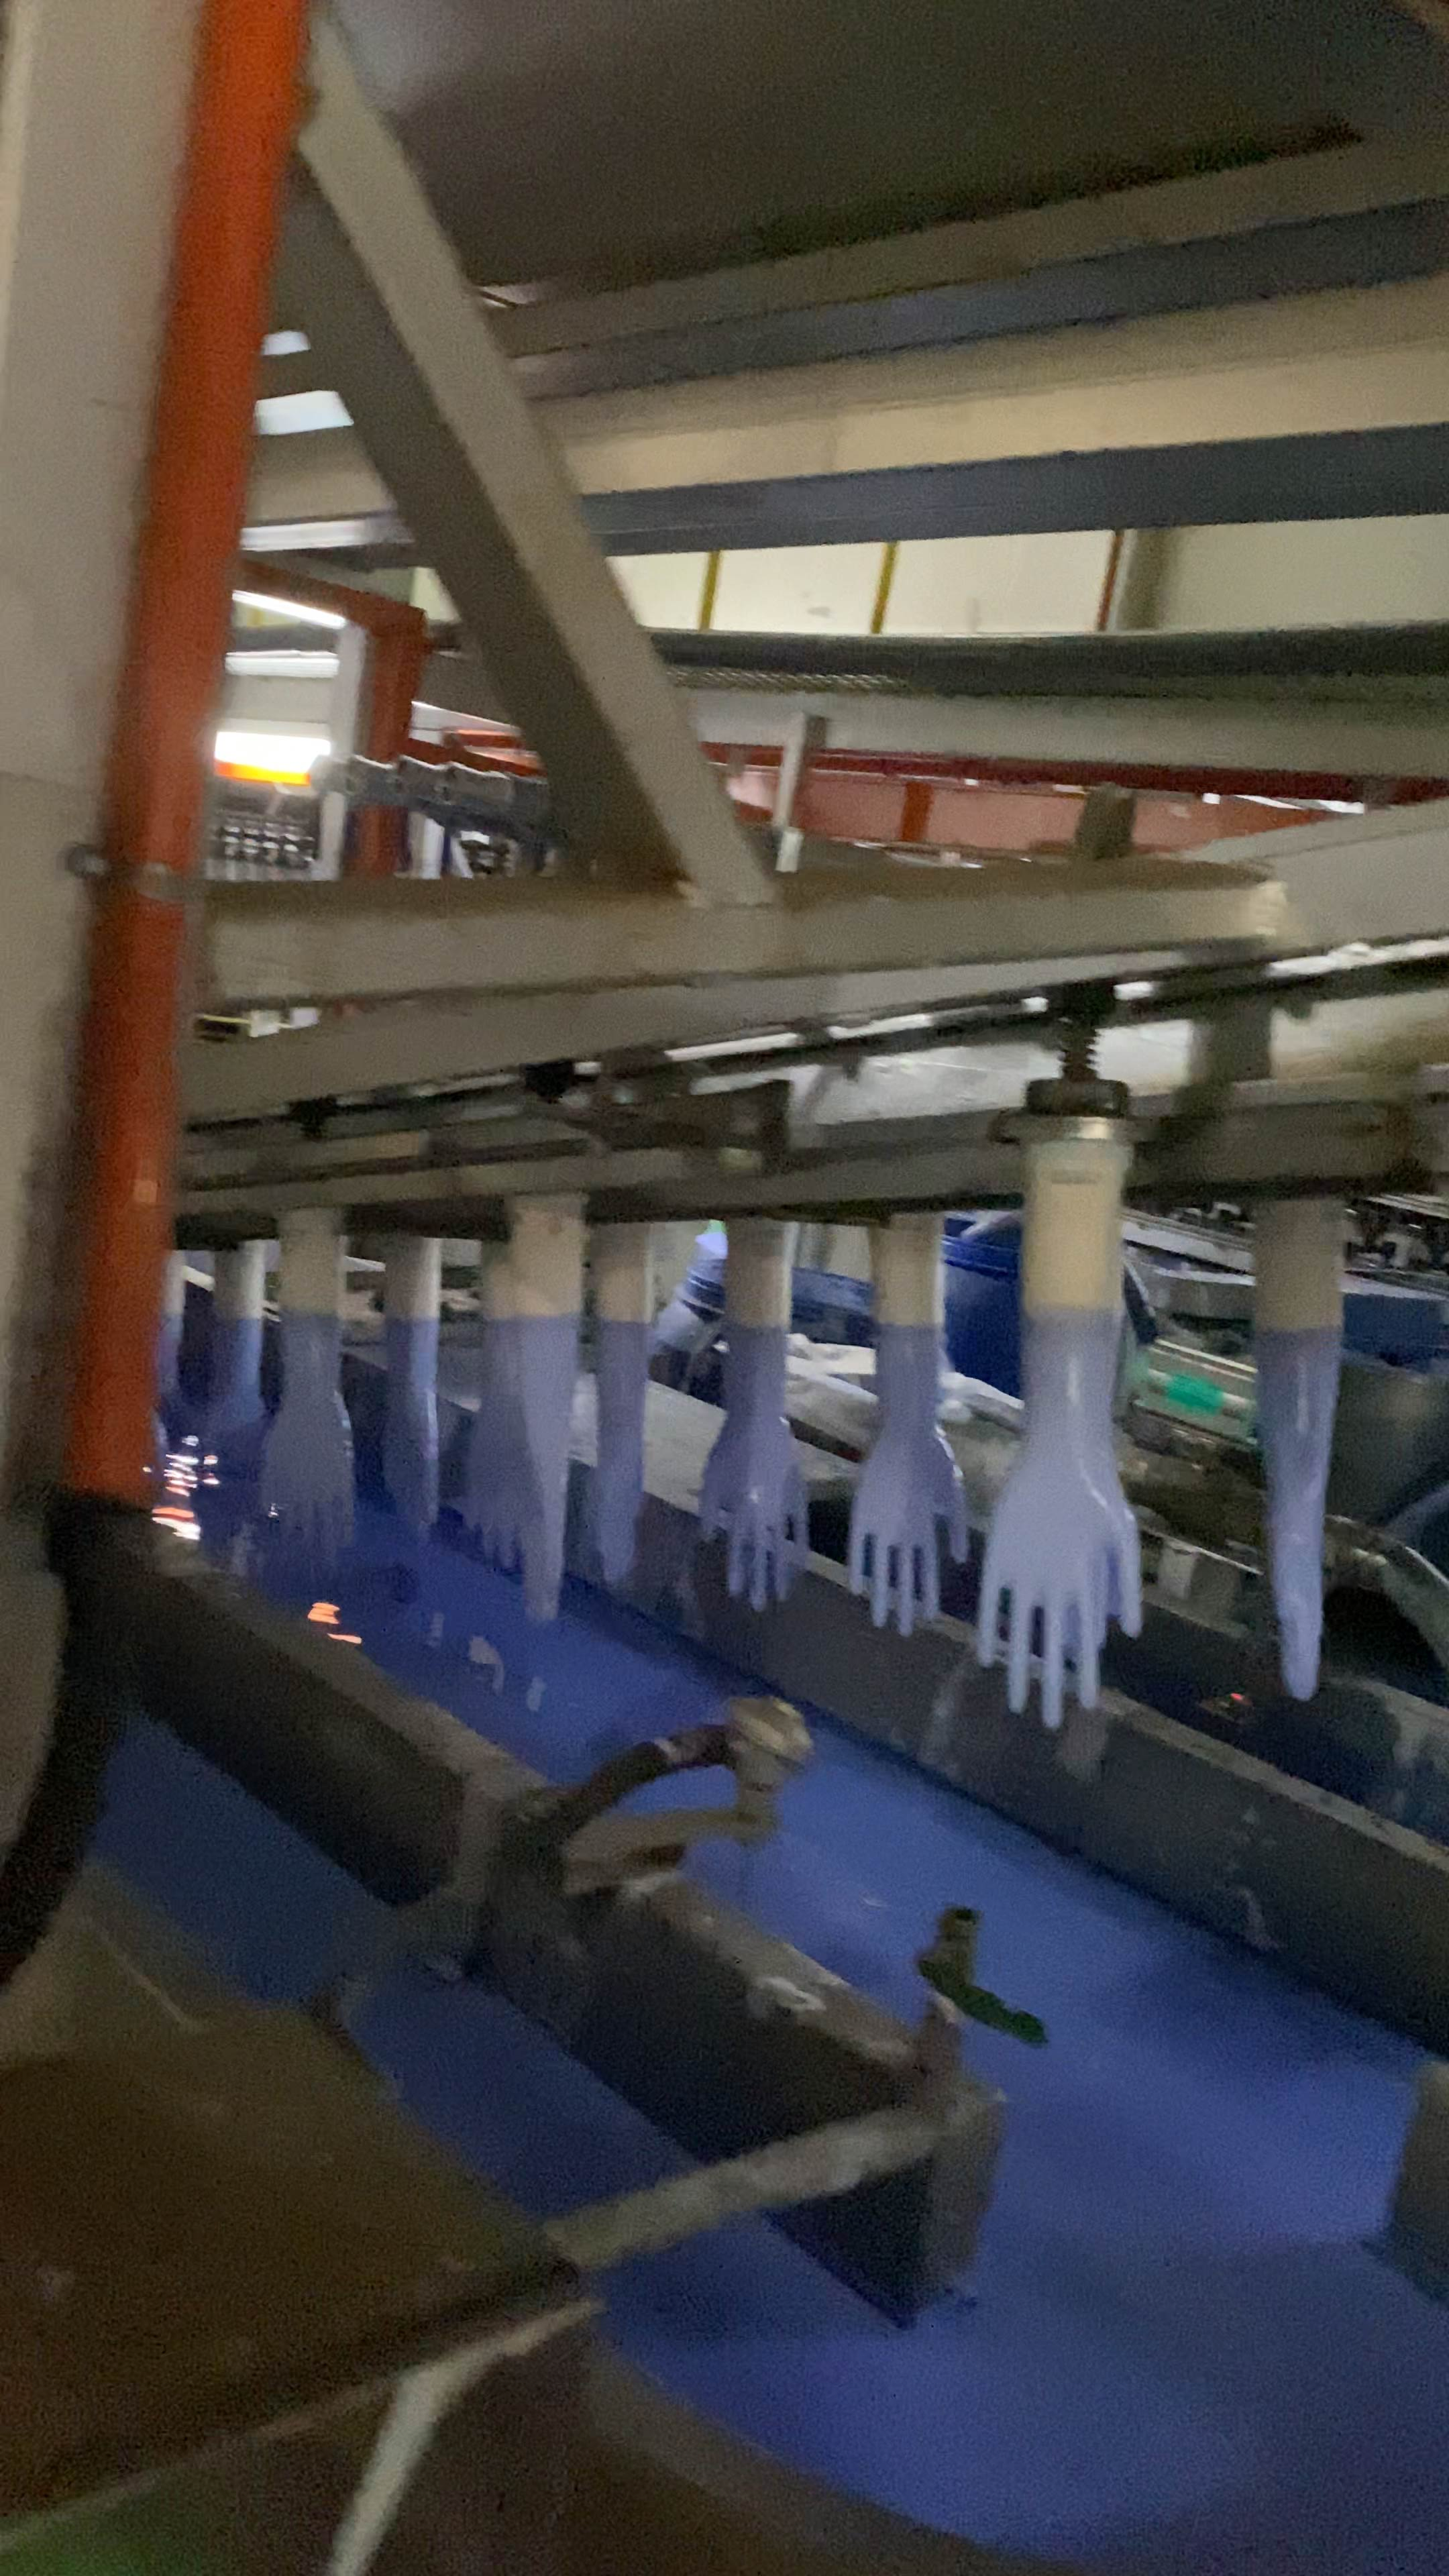glove: (977, 1309, 1141, 1727), (847, 1323, 966, 1635), (699, 1322, 809, 1610), (1254, 1327, 1338, 1702), (264, 1316, 352, 1552), (515, 1313, 577, 1622), (465, 1320, 522, 1568), (380, 1316, 439, 1548), (594, 1318, 644, 1585), (203, 1320, 271, 1477), (156, 1311, 180, 1414)
